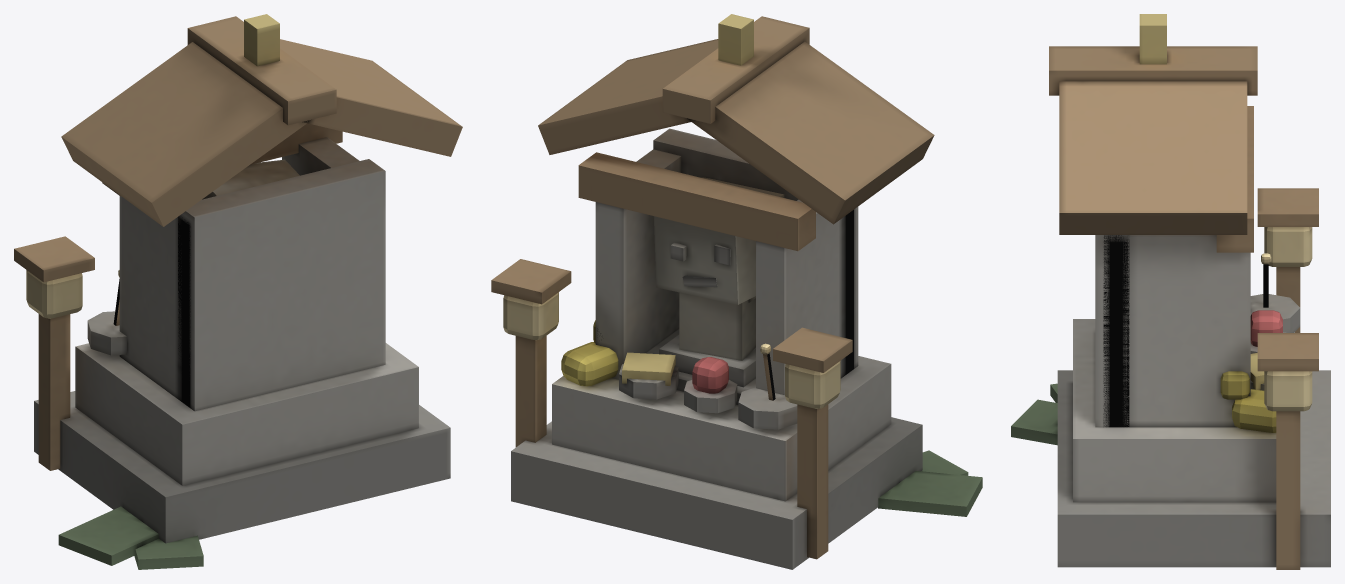
File: oddshrine.glb
The picture shows the model from 3 angles, left to right: view 1: azimuth 30°, elevation 25°; view 2: azimuth 150°, elevation 25°; view 3: azimuth 270°, elevation 25°; orthographic projection. The views are drawn at different scales.
Parts seen in each view (by area): view 1: oddshrine; view 2: oddshrine; view 3: oddshrine.
Boxes of the visible parts, left/top/right/bottom form: oddshrine: left=14, top=14, right=462, bottom=569; oddshrine: left=491, top=14, right=982, bottom=569; oddshrine: left=1011, top=14, right=1330, bottom=569.
Bounding box in the file's own units: 2.71 × 3.11 × 1.87.
10 materials, 10 textured.
